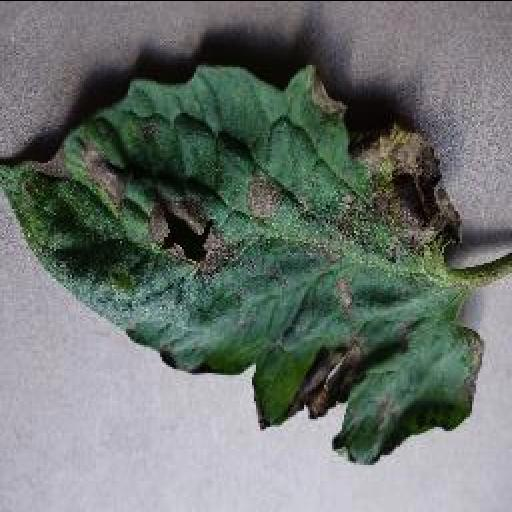disease_tomato: (0, 62, 486, 466)
